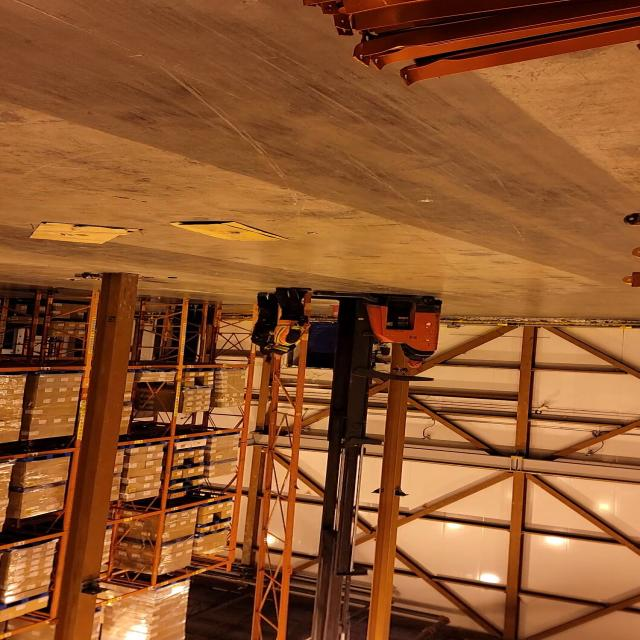forklift: (296, 288, 446, 447)
human: (268, 285, 315, 356), (248, 290, 284, 356), (396, 342, 440, 372)
objectofinterest: (240, 292, 312, 632), (166, 220, 294, 246), (27, 221, 146, 248)
